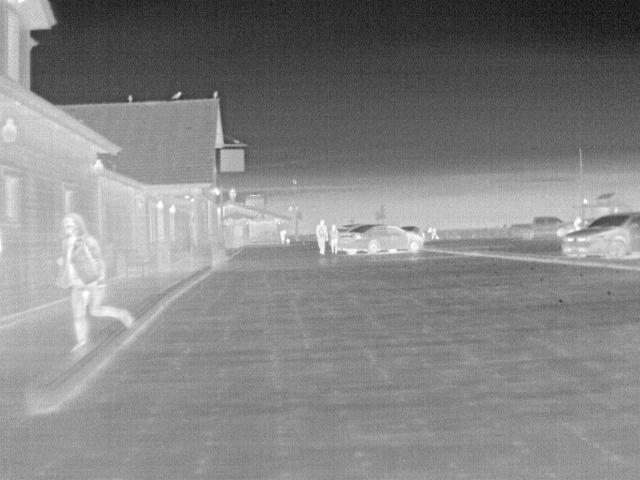car: (560, 213, 640, 260), (335, 221, 427, 253), (511, 215, 571, 242), (555, 218, 597, 238)
person: (60, 209, 138, 351), (313, 218, 331, 255), (324, 225, 342, 256), (278, 228, 290, 243), (431, 226, 443, 241)
